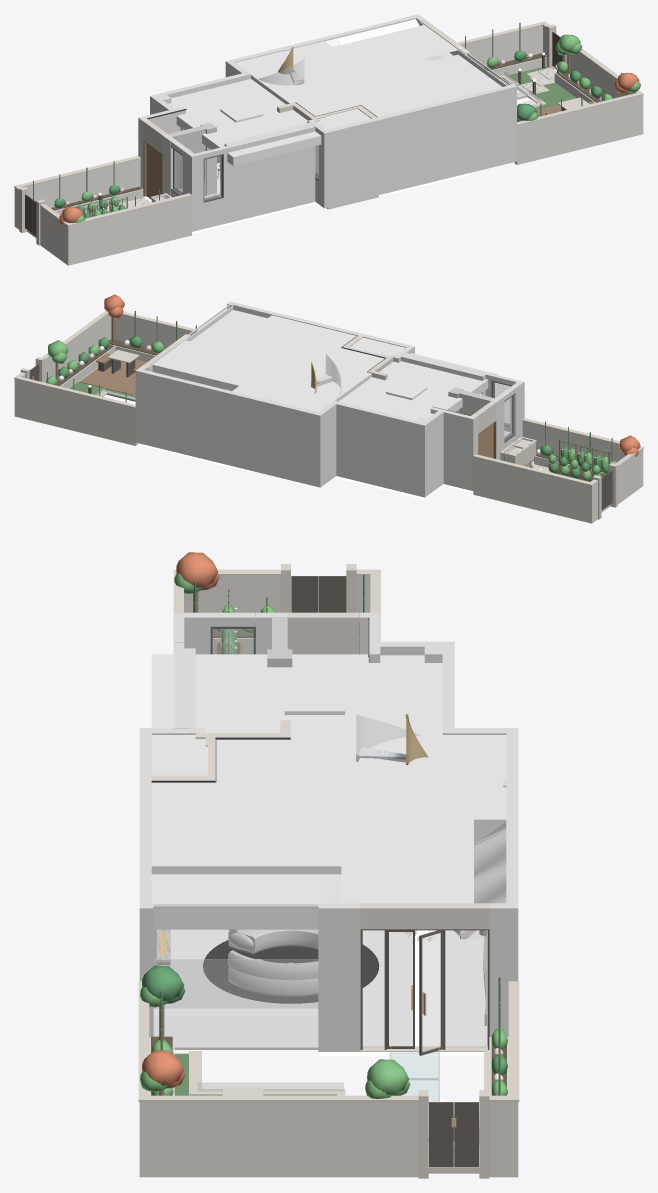
3 renders of one model, top to bottom at view 1: azimuth 30°, elevation 25°; view 2: azimuth 150°, elevation 25°; view 3: azimuth 270°, elevation 25°, orthographic. The views are drawn at different scales.
Parts seen in each view (by area): view 1: 1F_Plan_Walls_Manifold, 1F_FrontGarden_Wall_S, 1F_BackGarden_Wall_S, 1F_Living_Ceiling_FlatW, 1F_Living_Ceiling_WaveShell, 1F_Living_Ceiling_BorderS, 1F_Living_Ceiling_DiningWell_S, 1F_BackGarden_Wall_N, 1F_Living_Ceiling_DiningWell_N, 1F_FrontGarden_Wall_N, 1F_Kaspar_Ceiling_FlatPlate, 1F_BackGarden_Wall_WS (+20 smaller); view 2: 1F_Plan_Walls_Manifold, 1F_Living_Ceiling_WaveShell, 1F_FrontGarden_Wall_N, 1F_BackGarden_Wall_N, 1F_Living_Ceiling_FlatW, 1F_Living_Ceiling_BorderS, 1F_Living_Ceiling_DiningWell_S, 1F_BackGarden_Wall_S, 1F_Living_Ceiling_DiningWell_N, 1F_Kaspar_Ceiling_FlatPlate, 1F_FrontGarden_Wall_S, 1F_FrontGarden_Wall_ES (+16 smaller); view 3: 1F_Plan_Walls_Manifold, 1F_FrontGarden_Wall_ES, 1F_VentShaft_EastGlass, 1F_Living_Ceiling_FlatW, 1F_Living_Ceiling_WaveShell, 1F_Living_Ceiling_BorderS, 1F_Slab_Living_North, 1F_Living_Ceiling_DiningWell_S, 1F_Living_Ceiling_DiningWell_N, 1F_VentShaft_Glass_Balustrade, 1F_Kaspar_Ceiling_FlatPlate, 1F_Slab_Living_South (+36 smaller).
Part boxes in pixels (bbox=[...]): 1F_Plan_Walls_Manifold: bbox=[138, 14, 516, 231]; 1F_FrontGarden_Wall_S: bbox=[514, 96, 639, 164]; 1F_BackGarden_Wall_S: bbox=[72, 196, 191, 264]; 1F_Living_Ceiling_FlatW: bbox=[235, 50, 381, 129]; 1F_Living_Ceiling_WaveShell: bbox=[299, 25, 458, 80]; 1F_Living_Ceiling_BorderS: bbox=[334, 60, 466, 116]; 1F_Living_Ceiling_DiningWell_S: bbox=[202, 110, 321, 165]; 1F_BackGarden_Wall_N: bbox=[26, 159, 140, 207]; 1F_Living_Ceiling_DiningWell_N: bbox=[168, 79, 277, 129]; 1F_FrontGarden_Wall_N: bbox=[461, 25, 542, 67]; 1F_Kaspar_Ceiling_FlatPlate: bbox=[423, 56, 501, 95]; 1F_BackGarden_Wall_WS: bbox=[40, 206, 72, 265]; 1F_Plan_Walls_Manifold: bbox=[135, 301, 524, 497]; 1F_Living_Ceiling_WaveShell: bbox=[152, 340, 305, 393]; 1F_FrontGarden_Wall_N: bbox=[18, 380, 137, 445]; 1F_BackGarden_Wall_N: bbox=[473, 457, 587, 522]; 1F_Living_Ceiling_FlatW: bbox=[266, 335, 405, 411]; 1F_Living_Ceiling_BorderS: bbox=[225, 315, 352, 369]; 1F_Living_Ceiling_DiningWell_S: bbox=[379, 353, 496, 406]; 1F_BackGarden_Wall_S: bbox=[522, 421, 624, 462]; 1F_Living_Ceiling_DiningWell_N: bbox=[339, 386, 449, 420]; 1F_Kaspar_Ceiling_FlatPlate: bbox=[190, 310, 267, 348]; 1F_FrontGarden_Wall_S: bbox=[111, 315, 194, 349]; 1F_FrontGarden_Wall_ES: bbox=[44, 314, 110, 382]; 1F_Plan_Walls_Manifold: bbox=[139, 612, 518, 1051]; 1F_FrontGarden_Wall_ES: bbox=[139, 1102, 418, 1177]; 1F_VentShaft_EastGlass: bbox=[154, 909, 317, 1046]; 1F_Living_Ceiling_FlatW: bbox=[151, 735, 506, 787]; 1F_Living_Ceiling_WaveShell: bbox=[341, 787, 473, 903]; 1F_Living_Ceiling_BorderS: bbox=[151, 787, 341, 874]; 1F_Slab_Living_North: bbox=[341, 939, 486, 1056]; 1F_Living_Ceiling_DiningWell_S: bbox=[151, 654, 289, 733]; 1F_Living_Ceiling_DiningWell_N: bbox=[340, 654, 442, 734]; 1F_VentShaft_Glass_Balustrade: bbox=[154, 959, 317, 1008]; 1F_Kaspar_Ceiling_FlatPlate: bbox=[151, 874, 340, 929]; 1F_Slab_Living_South: bbox=[153, 929, 318, 1015].
Size of the model in its own units: 25.04 by 4.39 by 7.56.
80 materials, 11 textured.
